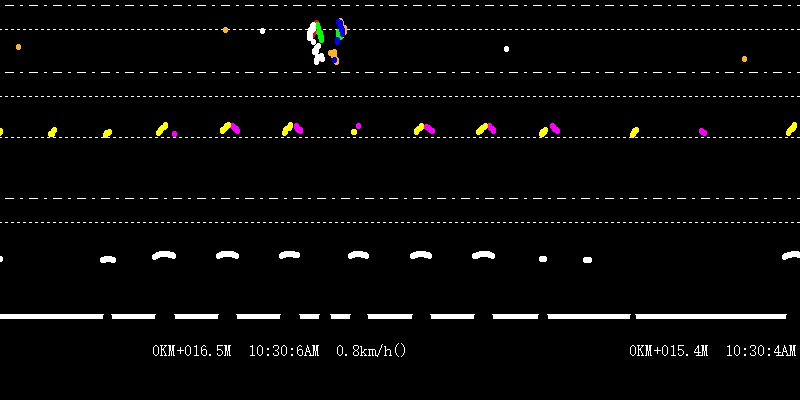J: (305, 3, 348, 67)
y_p: (150, 112, 507, 280)
